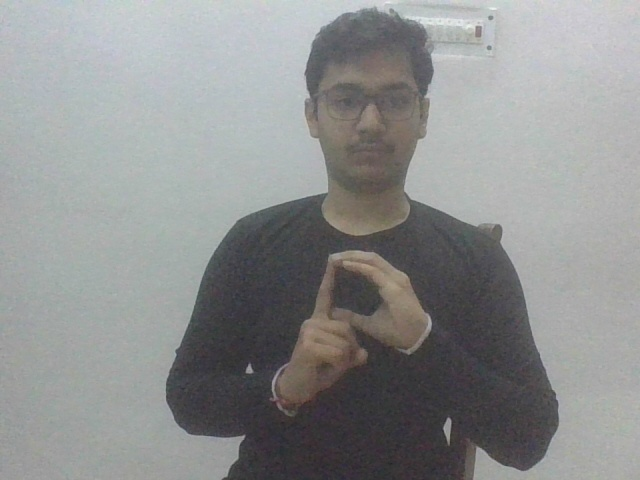D: (271, 244, 431, 417)
